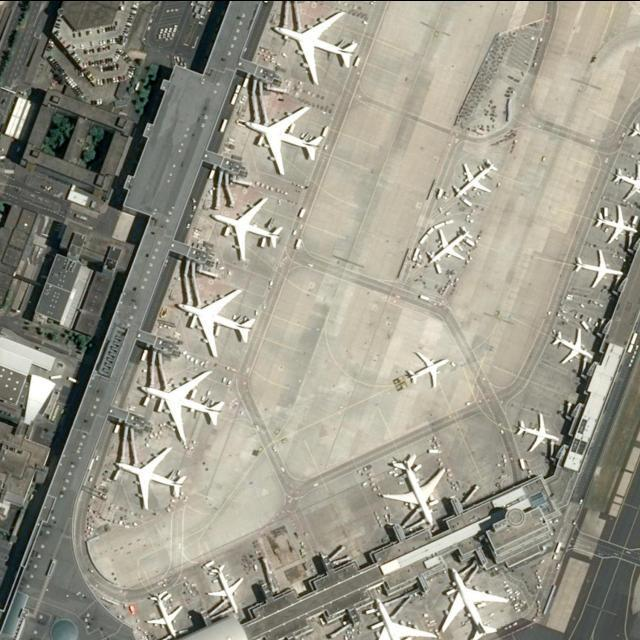Aircraft: (273, 8, 360, 86), (271, 7, 359, 84), (138, 367, 224, 441), (137, 367, 225, 438), (241, 102, 324, 176), (242, 102, 325, 174), (175, 285, 255, 355), (175, 287, 255, 355), (435, 565, 507, 639), (438, 565, 510, 639), (207, 194, 283, 262), (381, 451, 447, 528), (210, 193, 284, 261), (112, 444, 188, 508), (380, 452, 447, 524), (113, 444, 186, 508), (367, 595, 435, 640), (368, 595, 436, 640), (427, 222, 475, 268), (200, 563, 244, 613), (451, 155, 497, 201), (595, 199, 639, 247), (514, 409, 560, 454), (571, 249, 622, 289), (204, 561, 244, 612), (403, 347, 451, 389), (573, 247, 623, 287), (144, 591, 186, 637), (452, 156, 497, 198), (594, 201, 639, 243), (514, 410, 560, 451), (143, 588, 183, 634), (404, 348, 450, 388), (428, 224, 474, 264), (550, 325, 595, 365), (551, 325, 595, 365), (610, 160, 640, 201), (612, 163, 640, 201)
